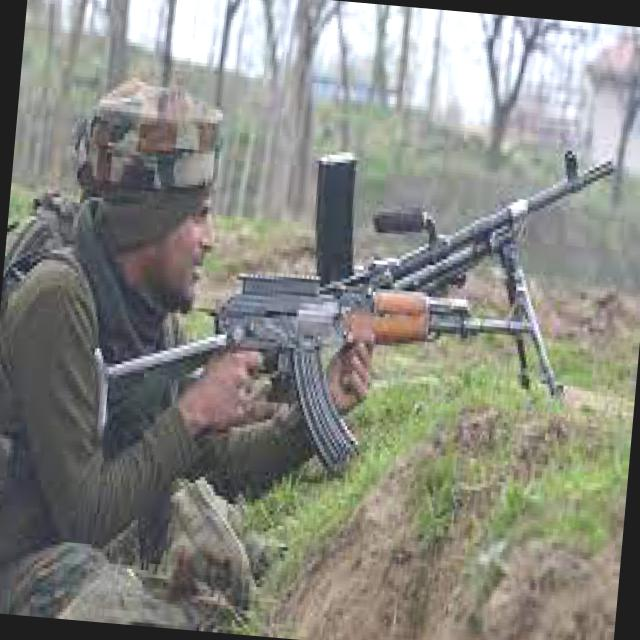long weapon: (277, 122, 627, 390), (198, 257, 546, 471)
